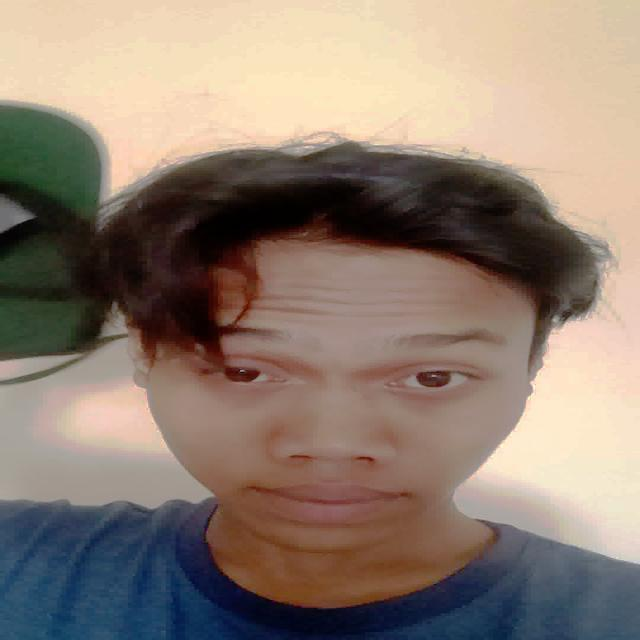TOPI: (2, 101, 120, 385)
